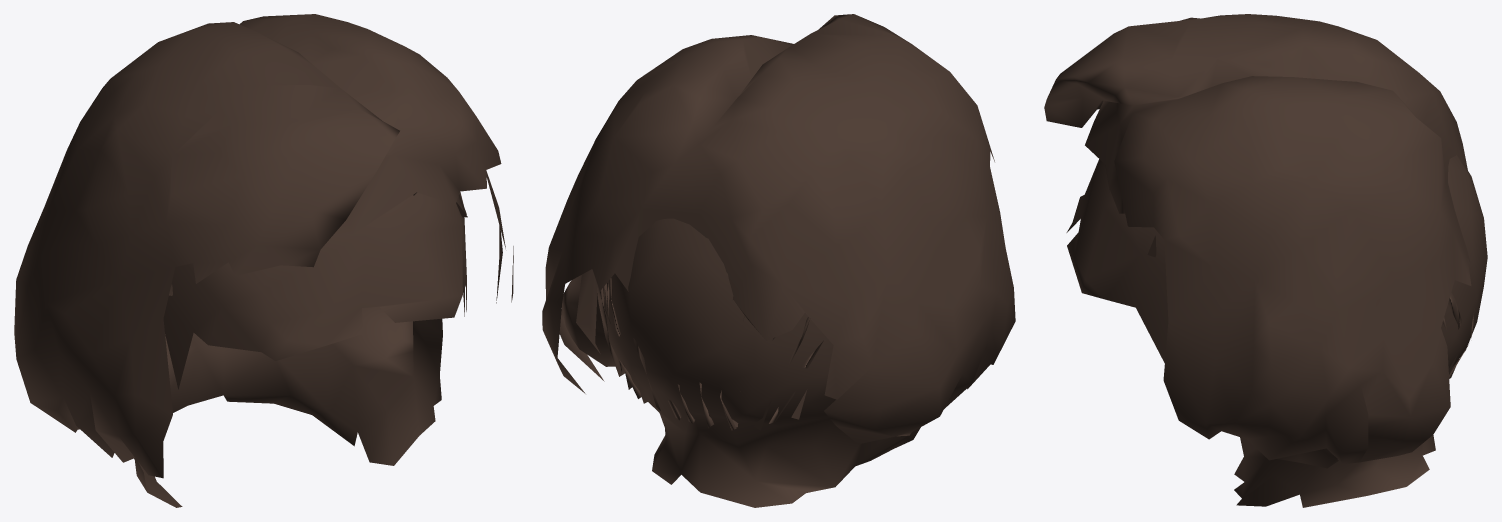
Rendered from bob.glb.
The picture shows the model from 3 angles, left to right: view 1: azimuth 30°, elevation 25°; view 2: azimuth 150°, elevation 25°; view 3: azimuth 270°, elevation 25°; orthographic projection. The views are drawn at different scales.
Parts seen in each view (by area): view 1: Hair, HairScalp; view 2: Hair, HairScalp, HairPulledRootStrands; view 3: Hair, HairScalp, HairPulledRootStrands.
Part boxes in pixels (x1=…): Hair: x1=14, y1=14, x2=513, y2=478; HairScalp: x1=78, y1=192, x2=466, y2=507; Hair: x1=542, y1=14, x2=1015, y2=444; HairScalp: x1=561, y1=218, x2=920, y2=507; HairPulledRootStrands: x1=596, y1=278, x2=823, y2=430; Hair: x1=1044, y1=14, x2=1471, y2=464; HairScalp: x1=1066, y1=155, x2=1487, y2=507; HairPulledRootStrands: x1=1147, y1=235, x2=1475, y2=378.
Bounding box in the file's own units: 0.5112 × 0.4736 × 0.4518.
